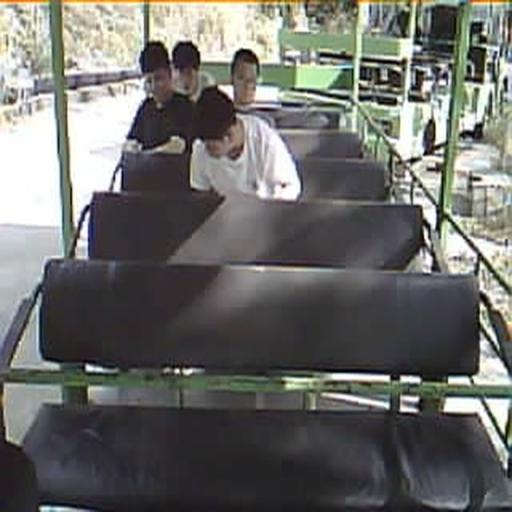persona: (188, 85, 302, 202), (124, 40, 196, 154), (231, 47, 277, 133), (171, 40, 212, 104)
